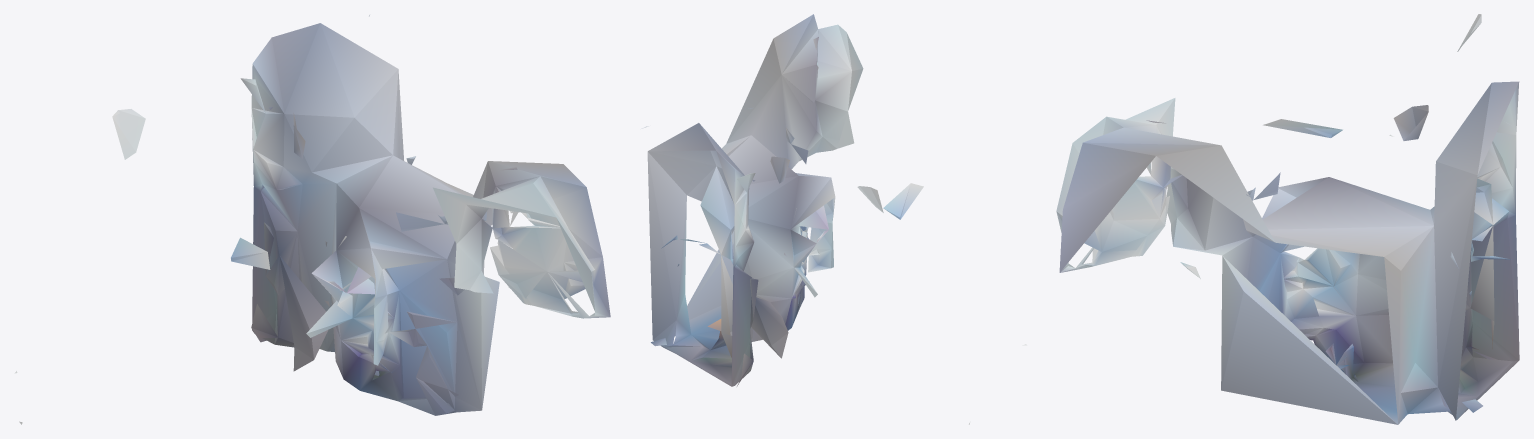
The picture shows the model from 3 angles, left to right: view 1: azimuth 30°, elevation 25°; view 2: azimuth 150°, elevation 25°; view 3: azimuth 270°, elevation 25°; orthographic projection. The views are drawn at different scales.
Bounding box in the file's own units: 9.98 × 6.86 × 9.24.
